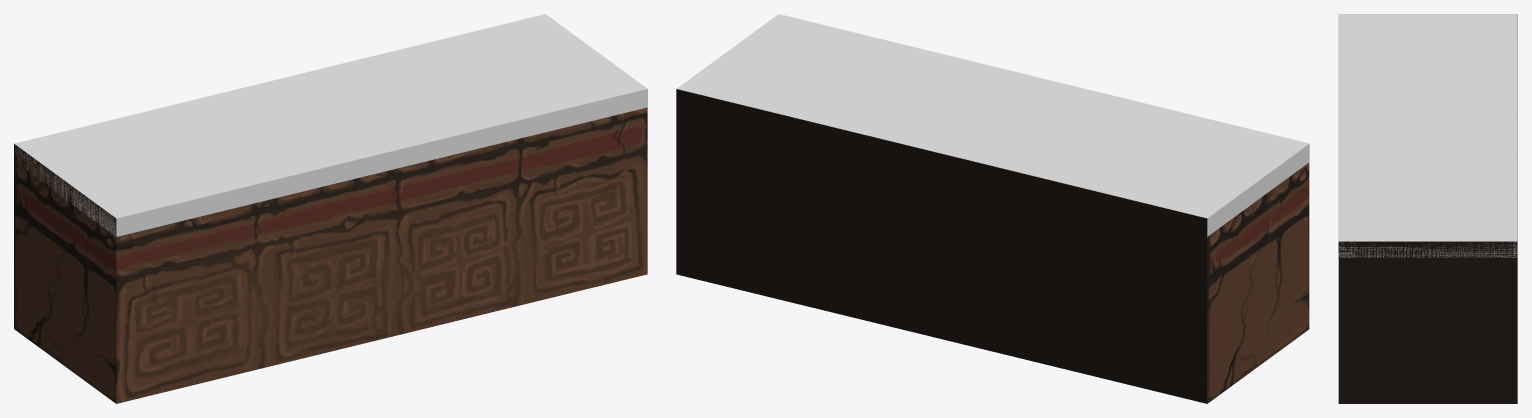
The model's file is tla_hodnik.glb.
3 renders of one model, left to right at view 1: azimuth 30°, elevation 25°; view 2: azimuth 150°, elevation 25°; view 3: azimuth 270°, elevation 25°, orthographic. The views are drawn at different scales.
Parts seen in each view (by area): view 1: Cube, Cube.001; view 2: Cube, Cube.001; view 3: Cube.001, Cube.
Part boxes in pixels (x1,y1,x2,y2): Cube: (14, 107, 647, 403); Cube.001: (14, 14, 647, 236); Cube: (676, 89, 1309, 403); Cube.001: (677, 14, 1309, 236); Cube.001: (1338, 14, 1517, 257); Cube: (1338, 14, 1517, 403).
Bounding box in the file's own units: 60 × 20.03 × 20.04.
Materials: 1 (1 with a texture image).
